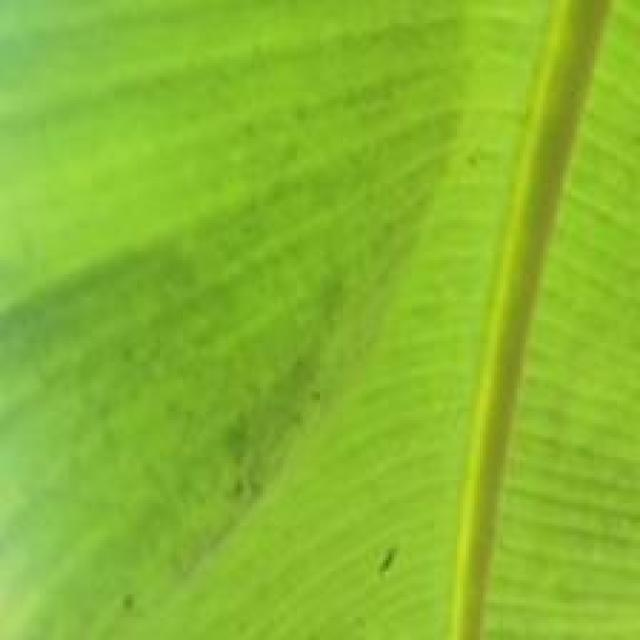Black_leaf_spot: (6, 0, 640, 609)
